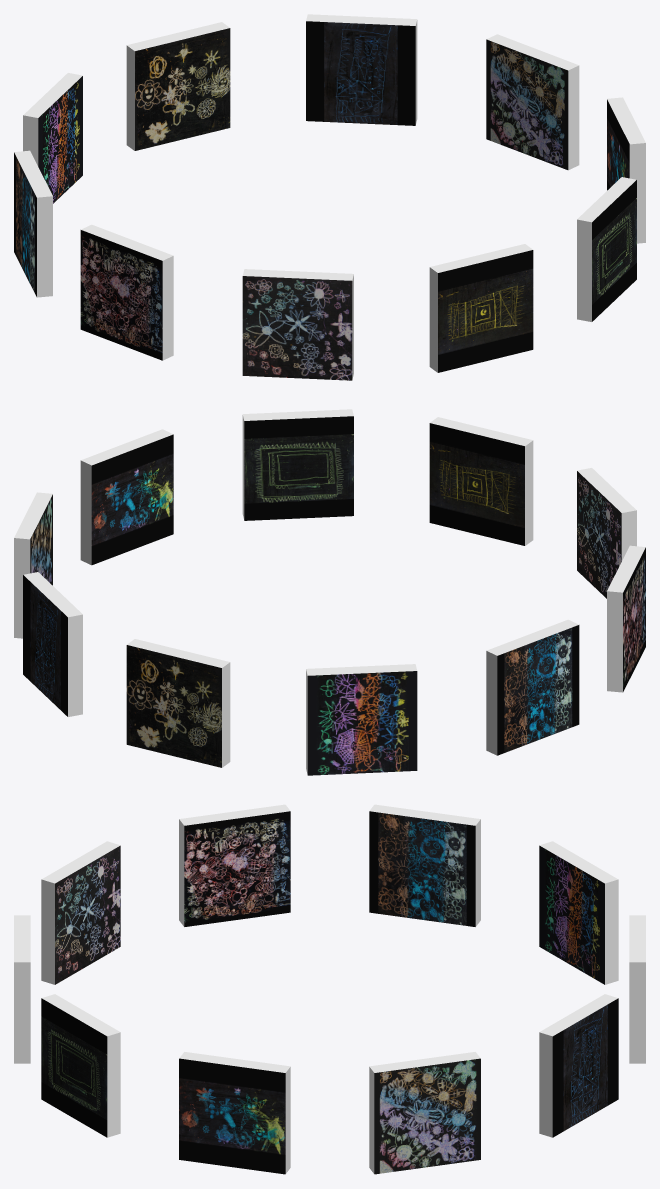
The model's file is 10_square.obj.
3 renders of one model, top to bottom at view 1: azimuth 30°, elevation 25°; view 2: azimuth 150°, elevation 25°; view 3: azimuth 270°, elevation 25°, orthographic.
Parts seen in each view (by area): view 1: Cube_1, Cube_6, Cube_0, Cube_5, Cube_2, Cube_7, Cube_4, Cube_9, Cube_8, Cube_3; view 2: Cube_4, Cube_9, Cube_0, Cube_5, Cube_3, Cube_8, Cube_1, Cube_6, Cube_7, Cube_2; view 3: Cube_2, Cube_3, Cube_7, Cube_8, Cube_1, Cube_4, Cube_6, Cube_9, Cube_0, Cube_5.
Part boxes in pixels (x1,y1,x2,y2): Cube_1: (306, 14, 417, 125); Cube_6: (242, 269, 353, 380); Cube_0: (126, 22, 230, 150); Cube_5: (429, 244, 533, 372); Cube_2: (486, 34, 579, 170); Cube_7: (80, 224, 173, 360); Cube_4: (577, 177, 636, 321); Cube_9: (23, 73, 82, 203); Cube_8: (14, 150, 52, 297); Cube_3: (607, 97, 645, 243); Cube_4: (242, 409, 353, 520); Cube_9: (306, 664, 417, 775); Cube_0: (126, 639, 230, 767); Cube_5: (429, 417, 533, 545); Cube_3: (80, 429, 173, 565); Cube_8: (486, 619, 579, 755); Cube_1: (23, 572, 82, 716); Cube_6: (577, 468, 636, 598); Cube_7: (607, 545, 645, 692); Cube_2: (14, 492, 52, 638); Cube_2: (369, 1052, 480, 1174); Cube_3: (179, 1052, 290, 1174); Cube_7: (179, 804, 290, 926); Cube_8: (369, 804, 480, 926); Cube_1: (539, 994, 618, 1137); Cube_4: (41, 994, 120, 1137); Cube_6: (41, 841, 120, 984); Cube_9: (539, 841, 618, 984); Cube_0: (629, 915, 645, 1063); Cube_5: (14, 915, 30, 1063).
Size of the model in its own units: 1364 by 240 by 1356.
11 materials, 10 textured.
